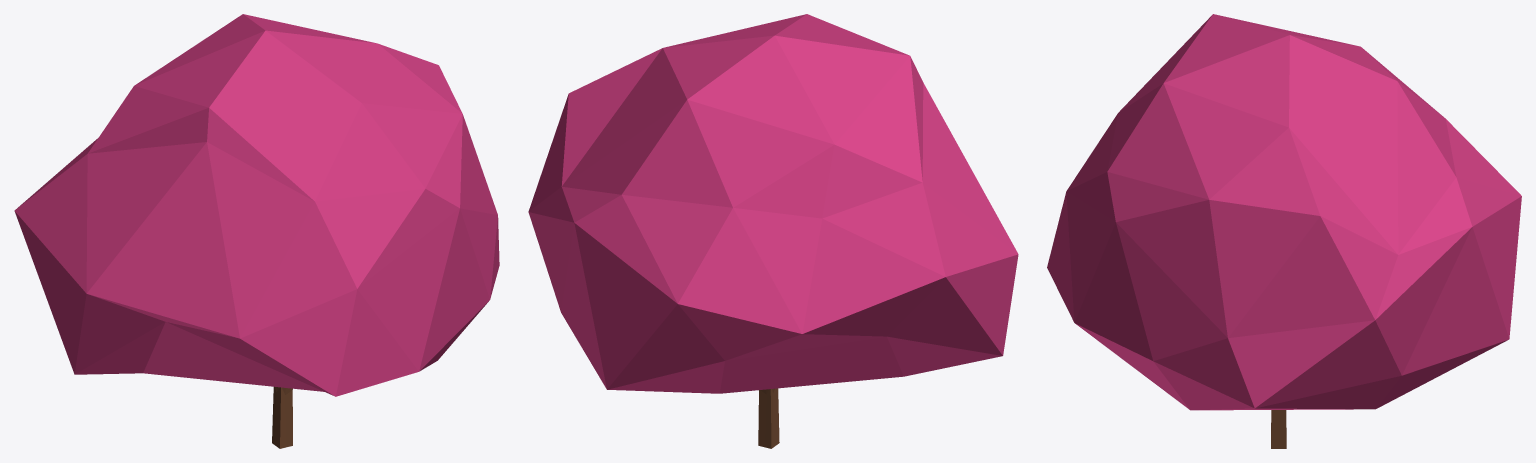
File: Tree_18_Pink.fbx
3 views of the same model, side by side, from view 1: azimuth 30°, elevation 25°; view 2: azimuth 150°, elevation 25°; view 3: azimuth 270°, elevation 25° (orthographic). The views are drawn at different scales.
Visible parts, largest first — view 1: Tree_18_Pink_Part_1, Tree_18_Pink_Part_2; view 2: Tree_18_Pink_Part_1, Tree_18_Pink_Part_2; view 3: Tree_18_Pink_Part_1, Tree_18_Pink_Part_2.
Part boxes in pixels (x1,y1,x2,y2): Tree_18_Pink_Part_1: [14, 14, 499, 396]; Tree_18_Pink_Part_2: [272, 386, 292, 448]; Tree_18_Pink_Part_1: [528, 14, 1018, 393]; Tree_18_Pink_Part_2: [758, 388, 779, 448]; Tree_18_Pink_Part_1: [1047, 14, 1521, 410]; Tree_18_Pink_Part_2: [1271, 410, 1286, 448].
Size of the model in its own units: 804 by 743 by 788.
